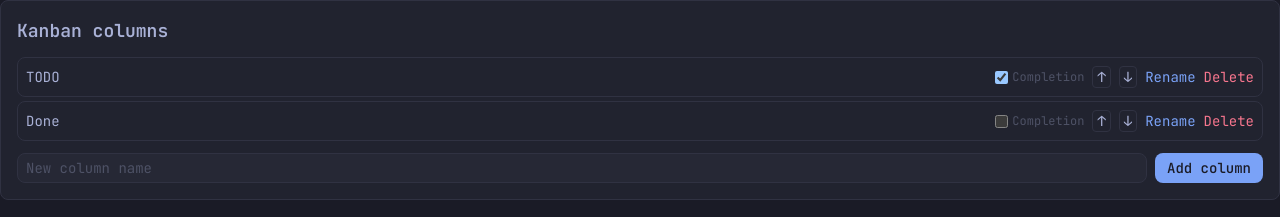
Test: ColumnsManager › marks at most one column as the completion column after designating a second one
The width and height of the screenshot is (1280, 217).
Expected: the text "TODO" is shown, [26,68,60,86]
Expected: the checkbox named "completion column: todo" is checked, [995,70,1008,84]
Click the checkbox named "completion column: done".
click(1002, 121)  # box [995,114,1008,128]
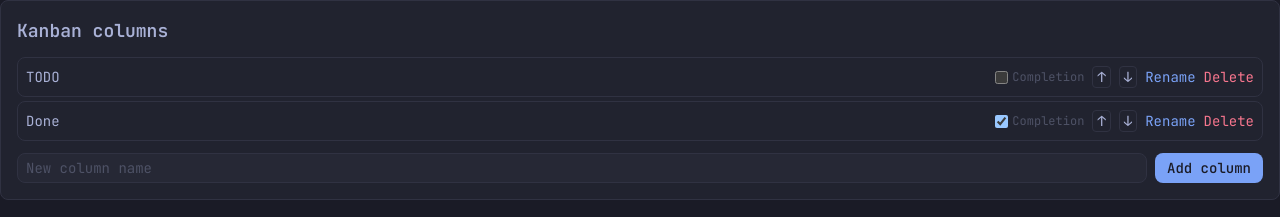
Expected: the checkbox named "completion column: done" is checked, [995,114,1008,128]
Expected: the checkbox named "completion column: todo" is not checked, [995,70,1008,84]
